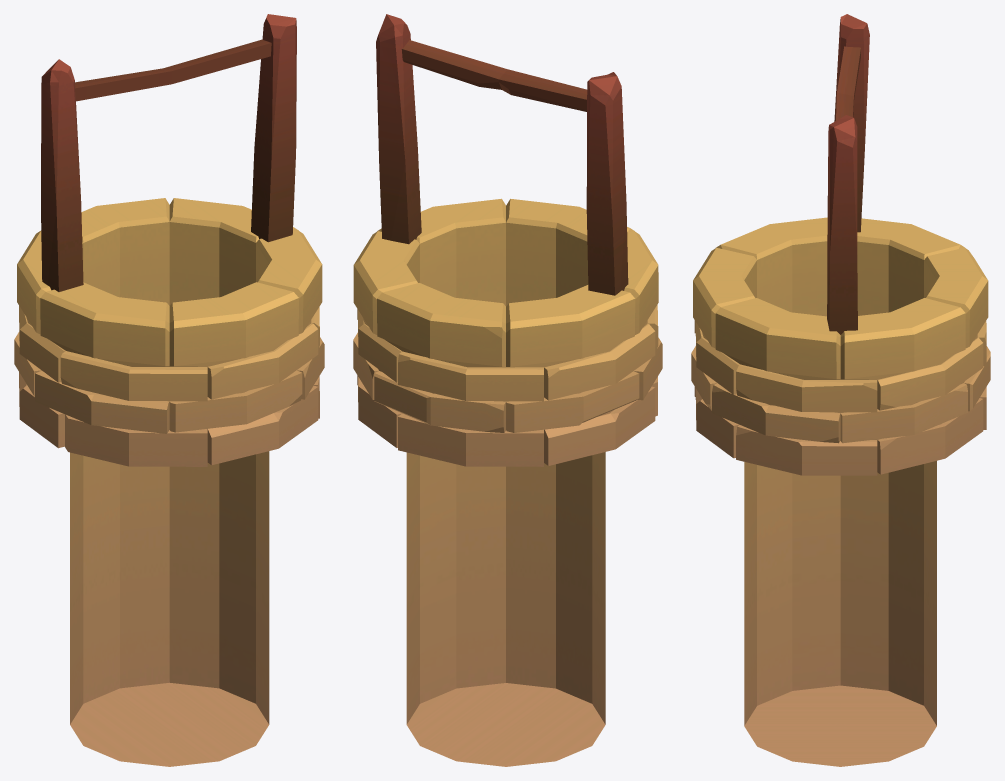
The picture shows the model from 3 angles, left to right: view 1: azimuth 30°, elevation 25°; view 2: azimuth 150°, elevation 25°; view 3: azimuth 270°, elevation 25°; orthographic projection. The views are drawn at different scales.
Visible parts, largest first — view 1: Well; view 2: Well; view 3: Well.
Part boxes in pixels (x1,y1,x2,y2): Well: (14,14,324,766); Well: (353,14,662,766); Well: (691,14,990,766).
Size of the model in its own units: 2.1 by 5.06 by 2.08.
1 material, 1 textured.
